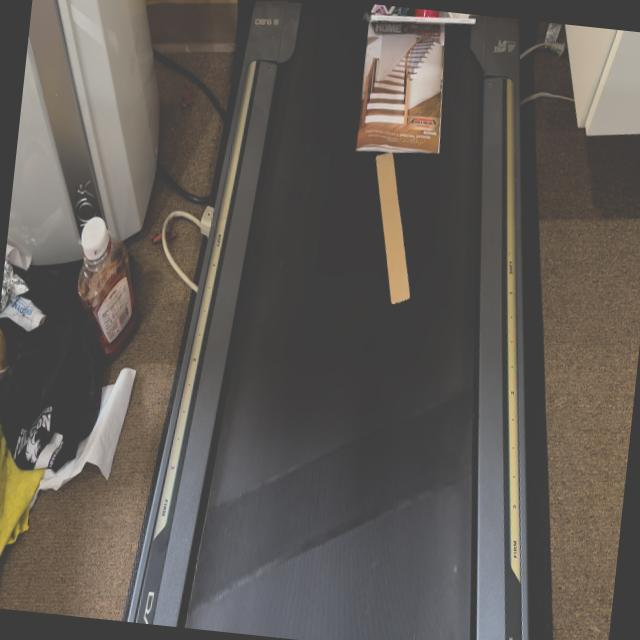Recycle: (354, 10, 454, 156), (358, 150, 427, 308)
